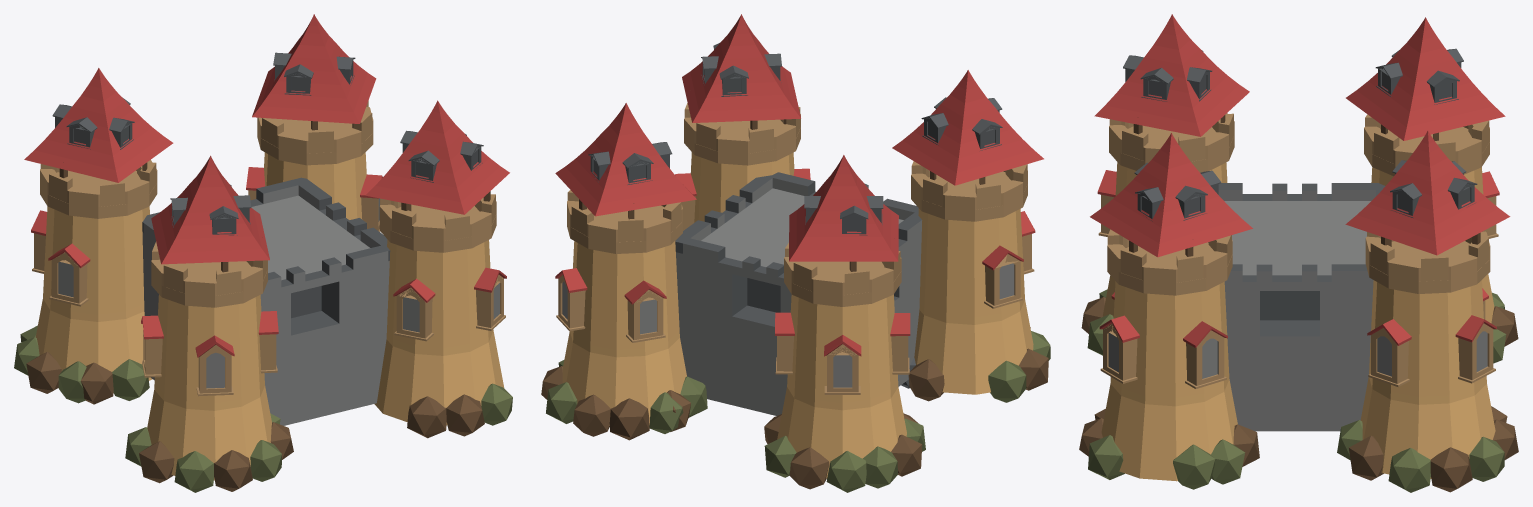
The model's file is castle.fbx.
The picture shows the model from 3 angles, left to right: view 1: azimuth 30°, elevation 25°; view 2: azimuth 150°, elevation 25°; view 3: azimuth 270°, elevation 25°; orthographic projection. The views are drawn at different scales.
Visible parts, largest first — view 1: Cube.003; view 2: Cube.003; view 3: Cube.003.
Part boxes in pixels (x1=…): Cube.003: x1=14, y1=14, x2=512, y2=492; Cube.003: x1=541, y1=14, x2=1050, y2=492; Cube.003: x1=1079, y1=14, x2=1518, y2=492.
Size of the model in its own units: 1823 by 1469 by 1756.
